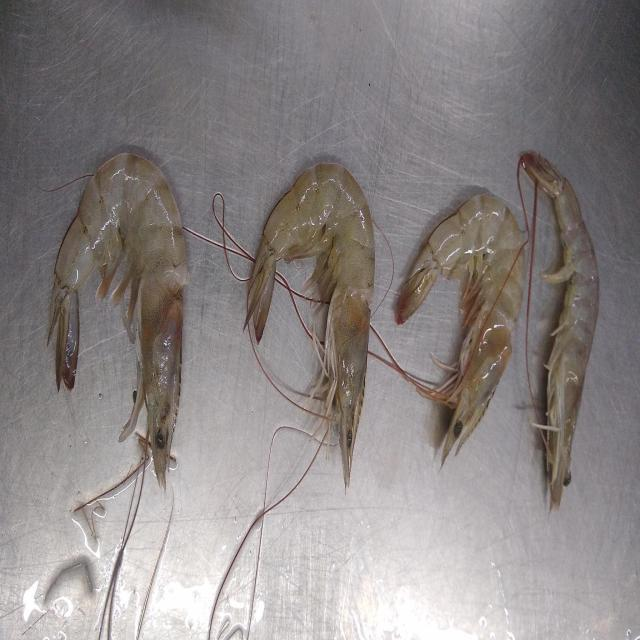shrimp: (48, 153, 189, 489), (245, 164, 375, 487), (395, 193, 525, 464), (520, 151, 600, 509)
